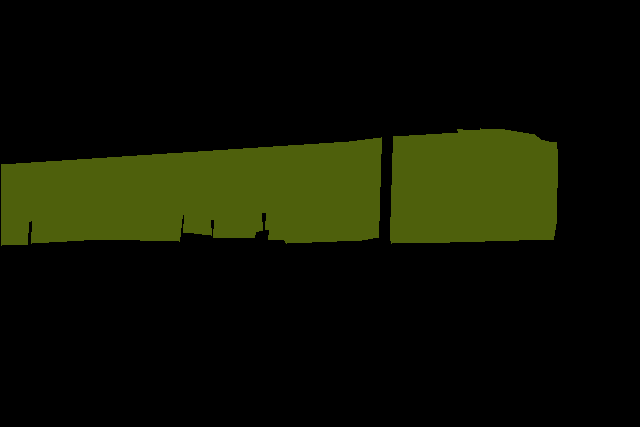Train: (1, 128, 557, 245)
